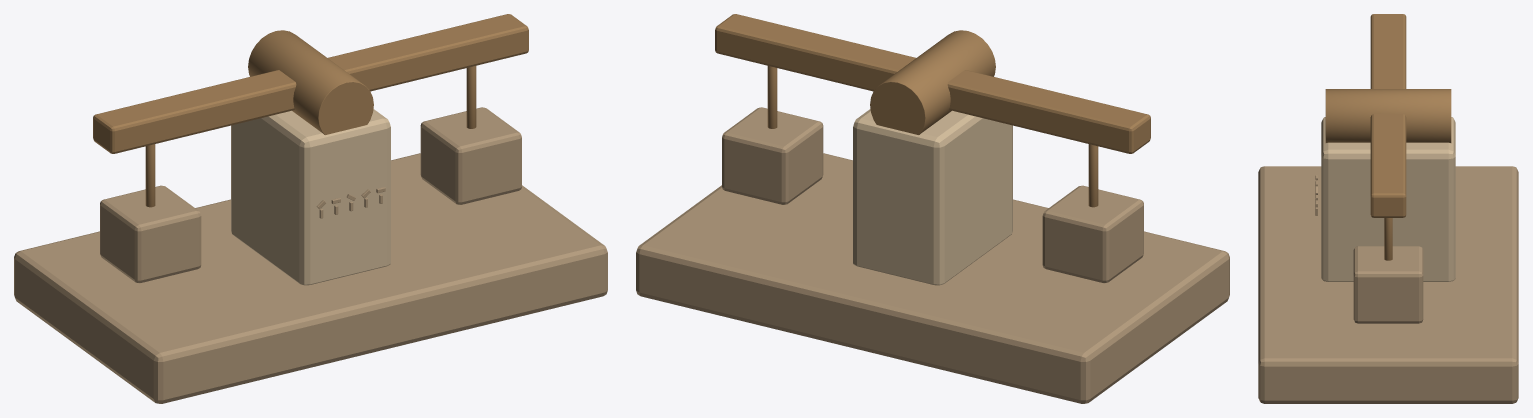
The model's file is counterweight-rig.glb.
3 renders of one model, left to right at view 1: azimuth 30°, elevation 25°; view 2: azimuth 150°, elevation 25°; view 3: azimuth 270°, elevation 25°, orthographic. The views are drawn at different scales.
Visible parts, largest first — view 1: Mechanism footing, Support block, Balance beam, Stone weight, Stone weight.001, Pivot, Hanger, Hanger.001; view 2: Mechanism footing, Support block, Balance beam, Stone weight, Stone weight.001, Pivot, Hanger, Hanger.001; view 3: Mechanism footing, Support block, Balance beam, Pivot, Stone weight.001, Hanger.001.
Boxes of the visible parts, box(x1,y1,x2,y2) form: Mechanism footing: box(14, 153, 607, 403); Support block: box(231, 109, 390, 285); Balance beam: box(93, 14, 528, 153); Stone weight: box(100, 185, 201, 283); Stone weight.001: box(420, 107, 521, 204); Pivot: box(248, 30, 373, 134); Hanger: box(145, 144, 155, 207); Hanger.001: box(466, 66, 476, 128); Mechanism footing: box(636, 153, 1229, 403); Support block: box(853, 109, 1012, 285); Balance beam: box(715, 14, 1150, 153); Stone weight: box(1042, 185, 1143, 283); Stone weight.001: box(722, 107, 823, 204); Pivot: box(870, 30, 995, 134); Hanger: box(1088, 144, 1098, 207); Hanger.001: box(767, 66, 777, 128); Mechanism footing: box(1258, 166, 1518, 403); Support block: box(1321, 117, 1455, 281); Balance beam: box(1370, 14, 1406, 217); Pivot: box(1325, 89, 1451, 142); Stone weight.001: box(1353, 246, 1423, 323); Hanger.001: box(1384, 218, 1392, 260).
Size of the model in its own units: 2.6 by 1.33 by 1.45.
